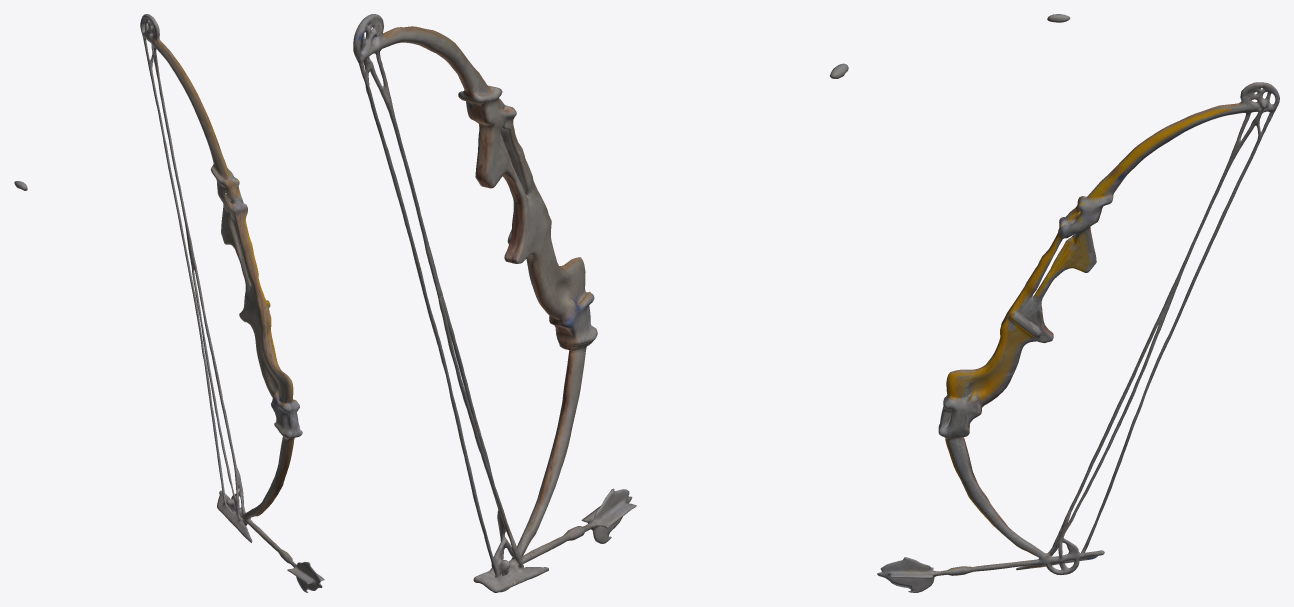
File: Willow Bow.glb
The picture shows the model from 3 angles, left to right: view 1: azimuth 30°, elevation 25°; view 2: azimuth 150°, elevation 25°; view 3: azimuth 270°, elevation 25°; orthographic projection. The views are drawn at different scales.
Parts seen in each view (by area): view 1: file1; view 2: file1; view 3: file1.
Boxes of the visible parts, bbox=[...] form: file1: bbox=[14, 14, 324, 592]; file1: bbox=[353, 14, 848, 592]; file1: bbox=[877, 14, 1279, 592].
Size of the model in its own units: 1.06 by 2 by 1.43.
1 material, 1 textured.
